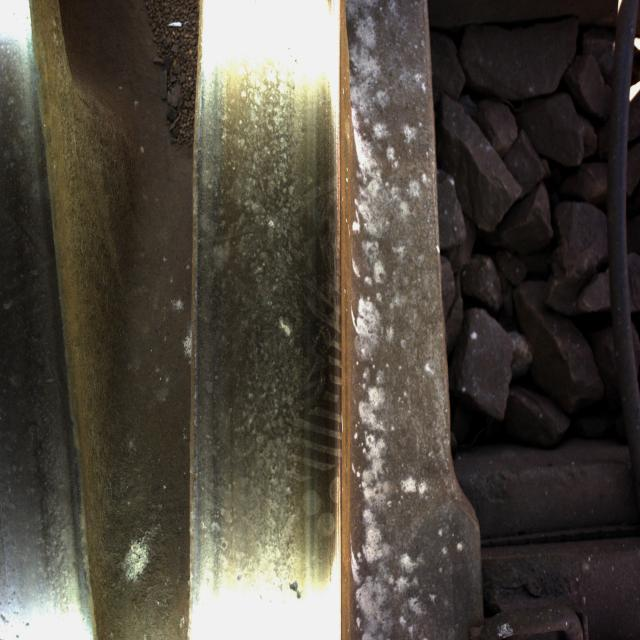scar: (206, 44, 335, 605)
